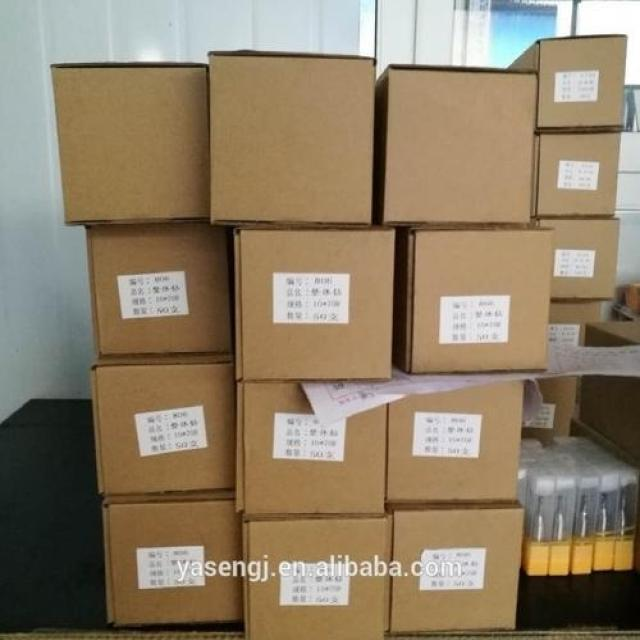Carton: (239, 382, 385, 635), (209, 54, 372, 224), (47, 64, 207, 217), (381, 63, 534, 220), (237, 225, 390, 378), (411, 228, 544, 368), (87, 226, 232, 351), (95, 361, 236, 488), (100, 499, 237, 624), (390, 382, 524, 503), (392, 512, 521, 632)
